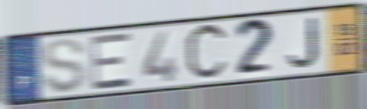2: (232, 17, 279, 81)
4: (140, 28, 180, 84)
C: (183, 20, 231, 86)
E: (88, 31, 135, 93)
J: (286, 15, 322, 70)
S: (41, 37, 88, 96)
